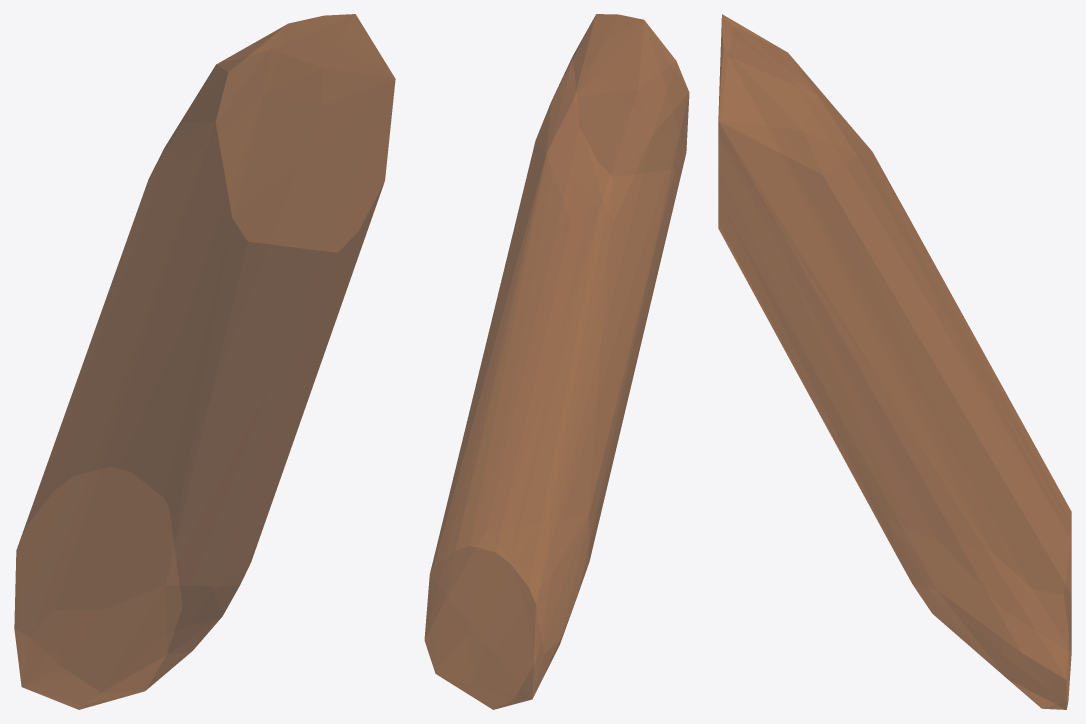
The picture shows the model from 3 angles, left to right: view 1: azimuth 30°, elevation 25°; view 2: azimuth 150°, elevation 25°; view 3: azimuth 270°, elevation 25°; orthographic projection. The views are drawn at different scales.
Visible parts, largest first — view 1: Shape_IndexedFaceSet.005_Shape_IndexedFaceSet.10752; view 2: Shape_IndexedFaceSet.005_Shape_IndexedFaceSet.10752; view 3: Shape_IndexedFaceSet.005_Shape_IndexedFaceSet.10752.
Part boxes in pixels (bbox=[...]): Shape_IndexedFaceSet.005_Shape_IndexedFaceSet.10752: bbox=[14, 14, 395, 709]; Shape_IndexedFaceSet.005_Shape_IndexedFaceSet.10752: bbox=[424, 14, 689, 709]; Shape_IndexedFaceSet.005_Shape_IndexedFaceSet.10752: bbox=[718, 14, 1071, 709].
Bounding box in the file's own units: 0.1283 × 0.5909 × 0.2761.
